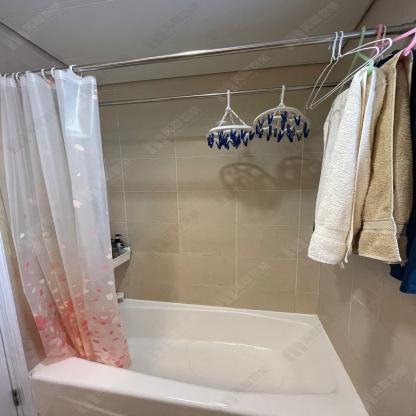Bathtub: (29, 297, 369, 416)
